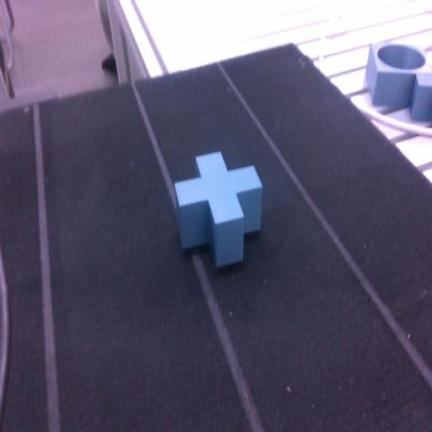cross: (175, 152, 262, 266), (175, 152, 260, 267)
